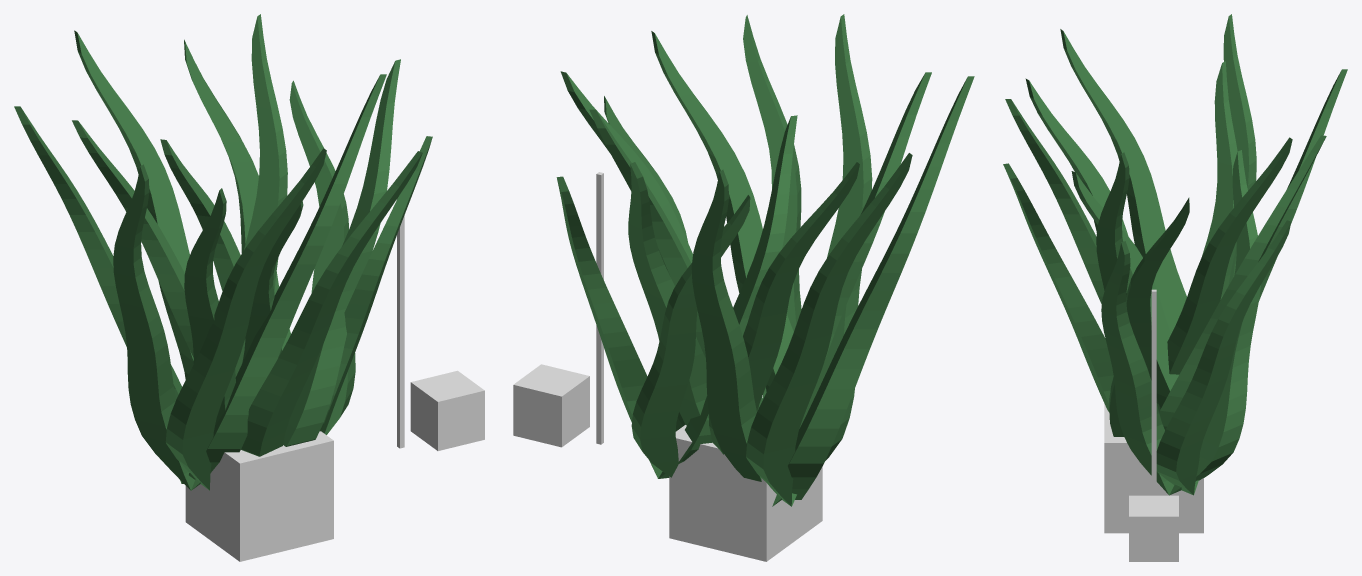
The model's file is Kelp4_LOD0_roblox.fbx.
The picture shows the model from 3 angles, left to right: view 1: azimuth 30°, elevation 25°; view 2: azimuth 150°, elevation 25°; view 3: azimuth 270°, elevation 25°; orthographic projection. The views are drawn at different scales.
Visible parts, largest first — view 1: Kelp_GreenMat, Ref_Head, 1_Stud_Cube, 5.3_Stud_Height_Ruler; view 2: Kelp_GreenMat, Ref_Head, 1_Stud_Cube, 5.3_Stud_Height_Ruler; view 3: Kelp_GreenMat, Ref_Head, 1_Stud_Cube, 5.3_Stud_Height_Ruler.
Part boxes in pixels (x1,y1,x2,y2): Kelp_GreenMat: (14,14,432,490); Ref_Head: (185,431,333,561); 1_Stud_Cube: (410,370,484,450); 5.3_Stud_Height_Ruler: (397,215,404,448); Kelp_GreenMat: (556,14,974,506); Ref_Head: (669,425,822,561); 1_Stud_Cube: (513,364,589,447); 5.3_Stud_Height_Ruler: (596,172,603,444); Kelp_GreenMat: (1003,14,1347,495); Ref_Head: (1104,404,1203,533); 1_Stud_Cube: (1129,495,1178,561); 5.3_Stud_Height_Ruler: (1151,289,1156,495).
Bounding box in the file's own units: 8.83 × 6.91 × 9.
